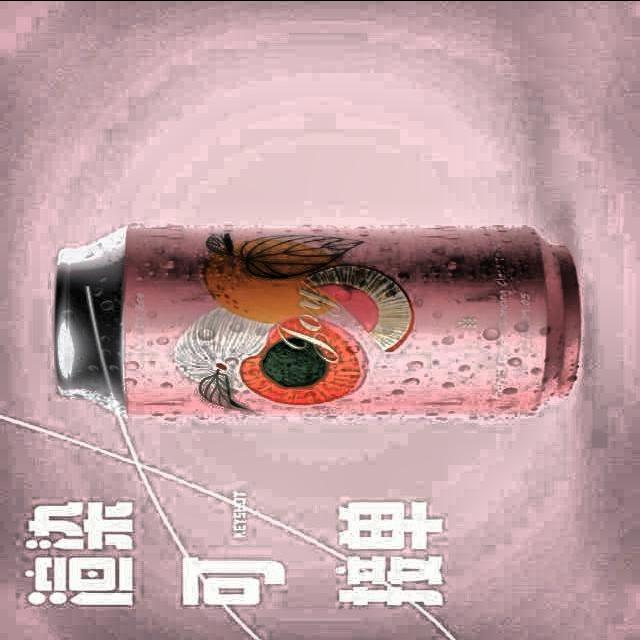Aluminum Can: (41, 218, 590, 423)
